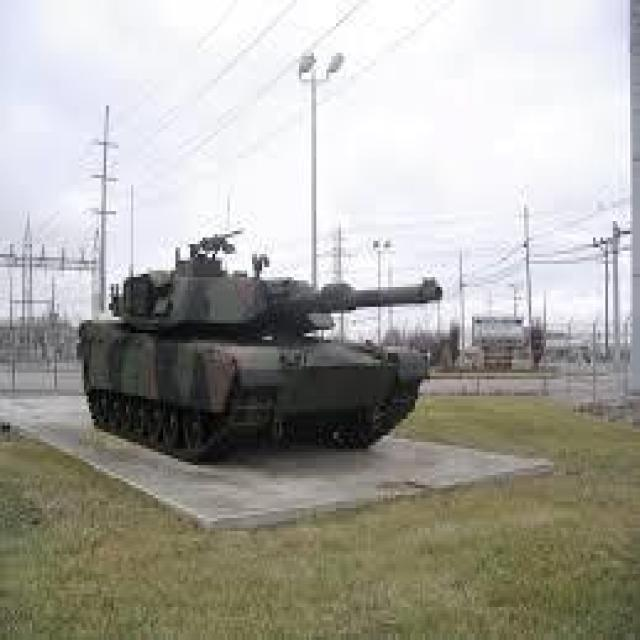Tanks: (88, 127, 483, 546)
